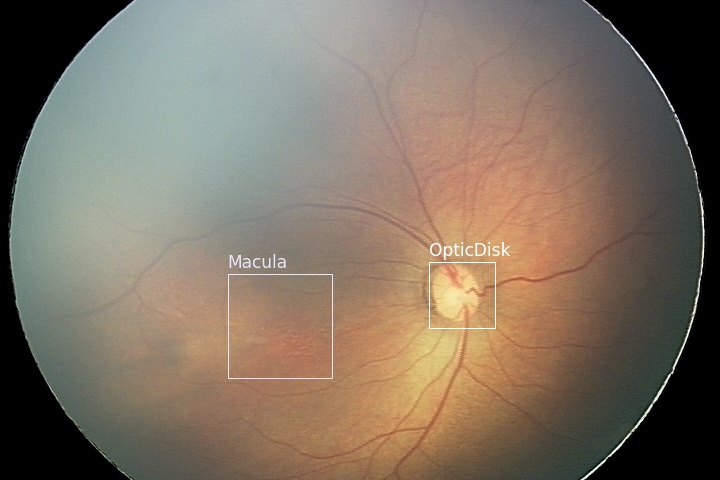Macula: (227, 273, 331, 377)
OpticDisk: (428, 261, 494, 327)
